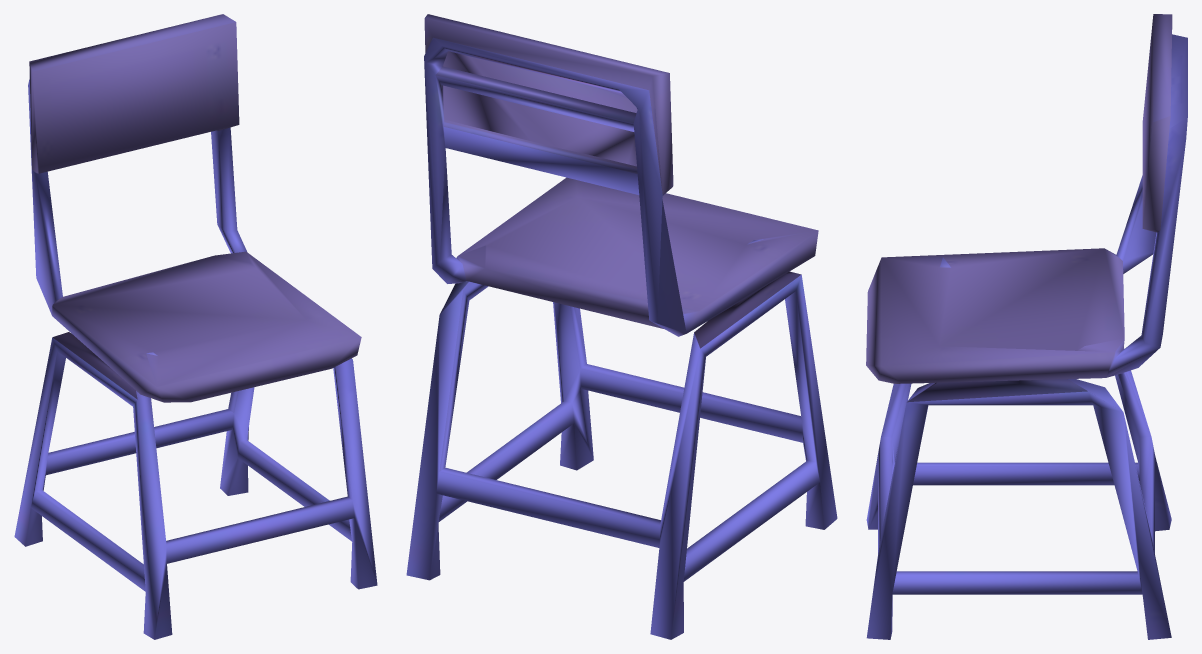
The model's file is model.progressive.glb.
The picture shows the model from 3 angles, left to right: view 1: azimuth 30°, elevation 25°; view 2: azimuth 150°, elevation 25°; view 3: azimuth 270°, elevation 25°; orthographic projection. The views are drawn at different scales.
Visible parts, largest first — view 1: texture_pbr_20250901; view 2: texture_pbr_20250901; view 3: texture_pbr_20250901.
Boxes of the visible parts, x1,y1,x2,y2 form: texture_pbr_20250901: [14, 14, 377, 639]; texture_pbr_20250901: [406, 14, 837, 639]; texture_pbr_20250901: [866, 14, 1187, 639].
Size of the model in its own units: 0.918 by 1.87 by 1.05.
1 material, 1 textured.
